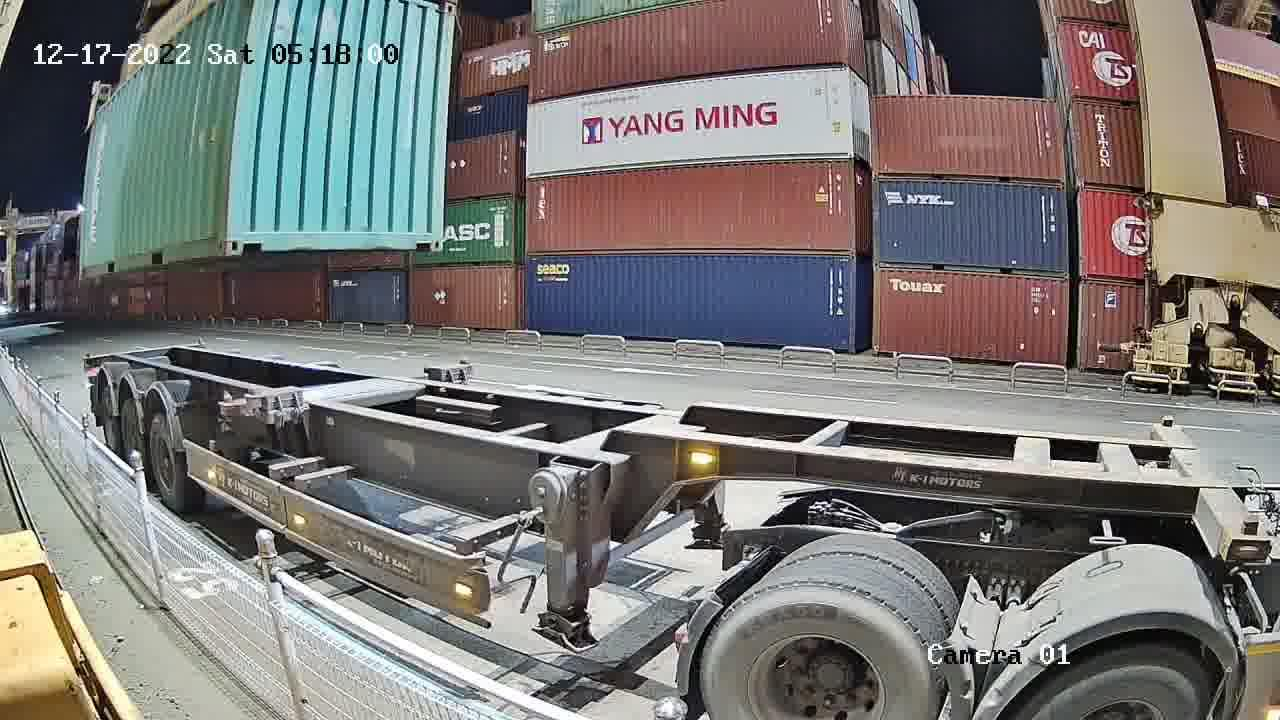Chassis: (237, 363, 472, 427)
Cone: (219, 412, 238, 432)
Container: (228, 218, 446, 258)
Hole_L: (228, 217, 255, 256)
Hole_R: (417, 220, 444, 252), (208, 218, 229, 254)
Tire: (697, 593, 936, 719), (1009, 642, 1223, 719), (149, 416, 183, 511), (117, 402, 144, 468)
